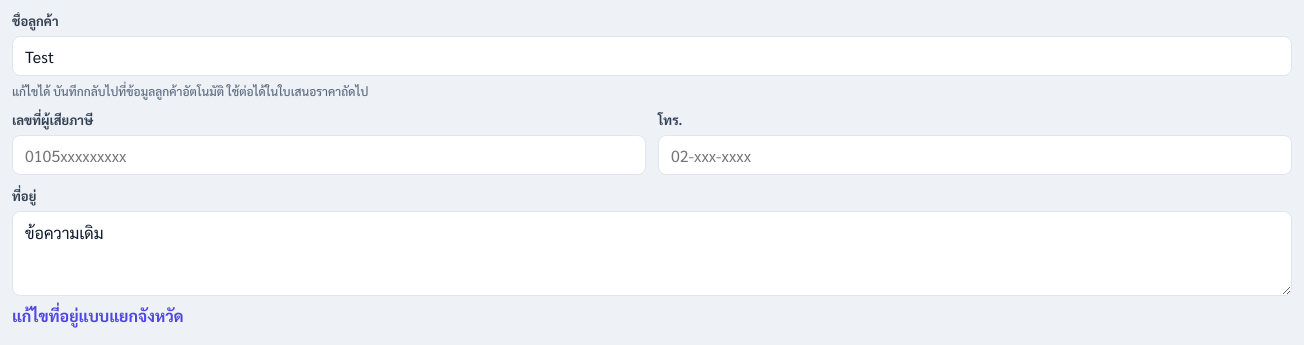
Test case: a dirty edit survives a record refresh for the SAME customer
Type "0105551234567" into the field labelled "เลขที่ผู้เสียภาษี" at (329, 155), box [12,135,646,175]
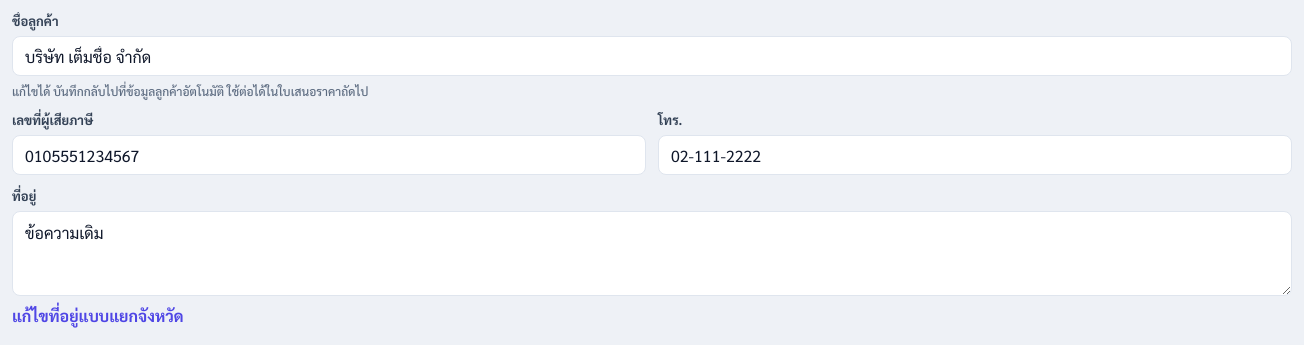
Expected: the field labelled "โทร." holds "02-111-2222", [658,135,1292,175]
